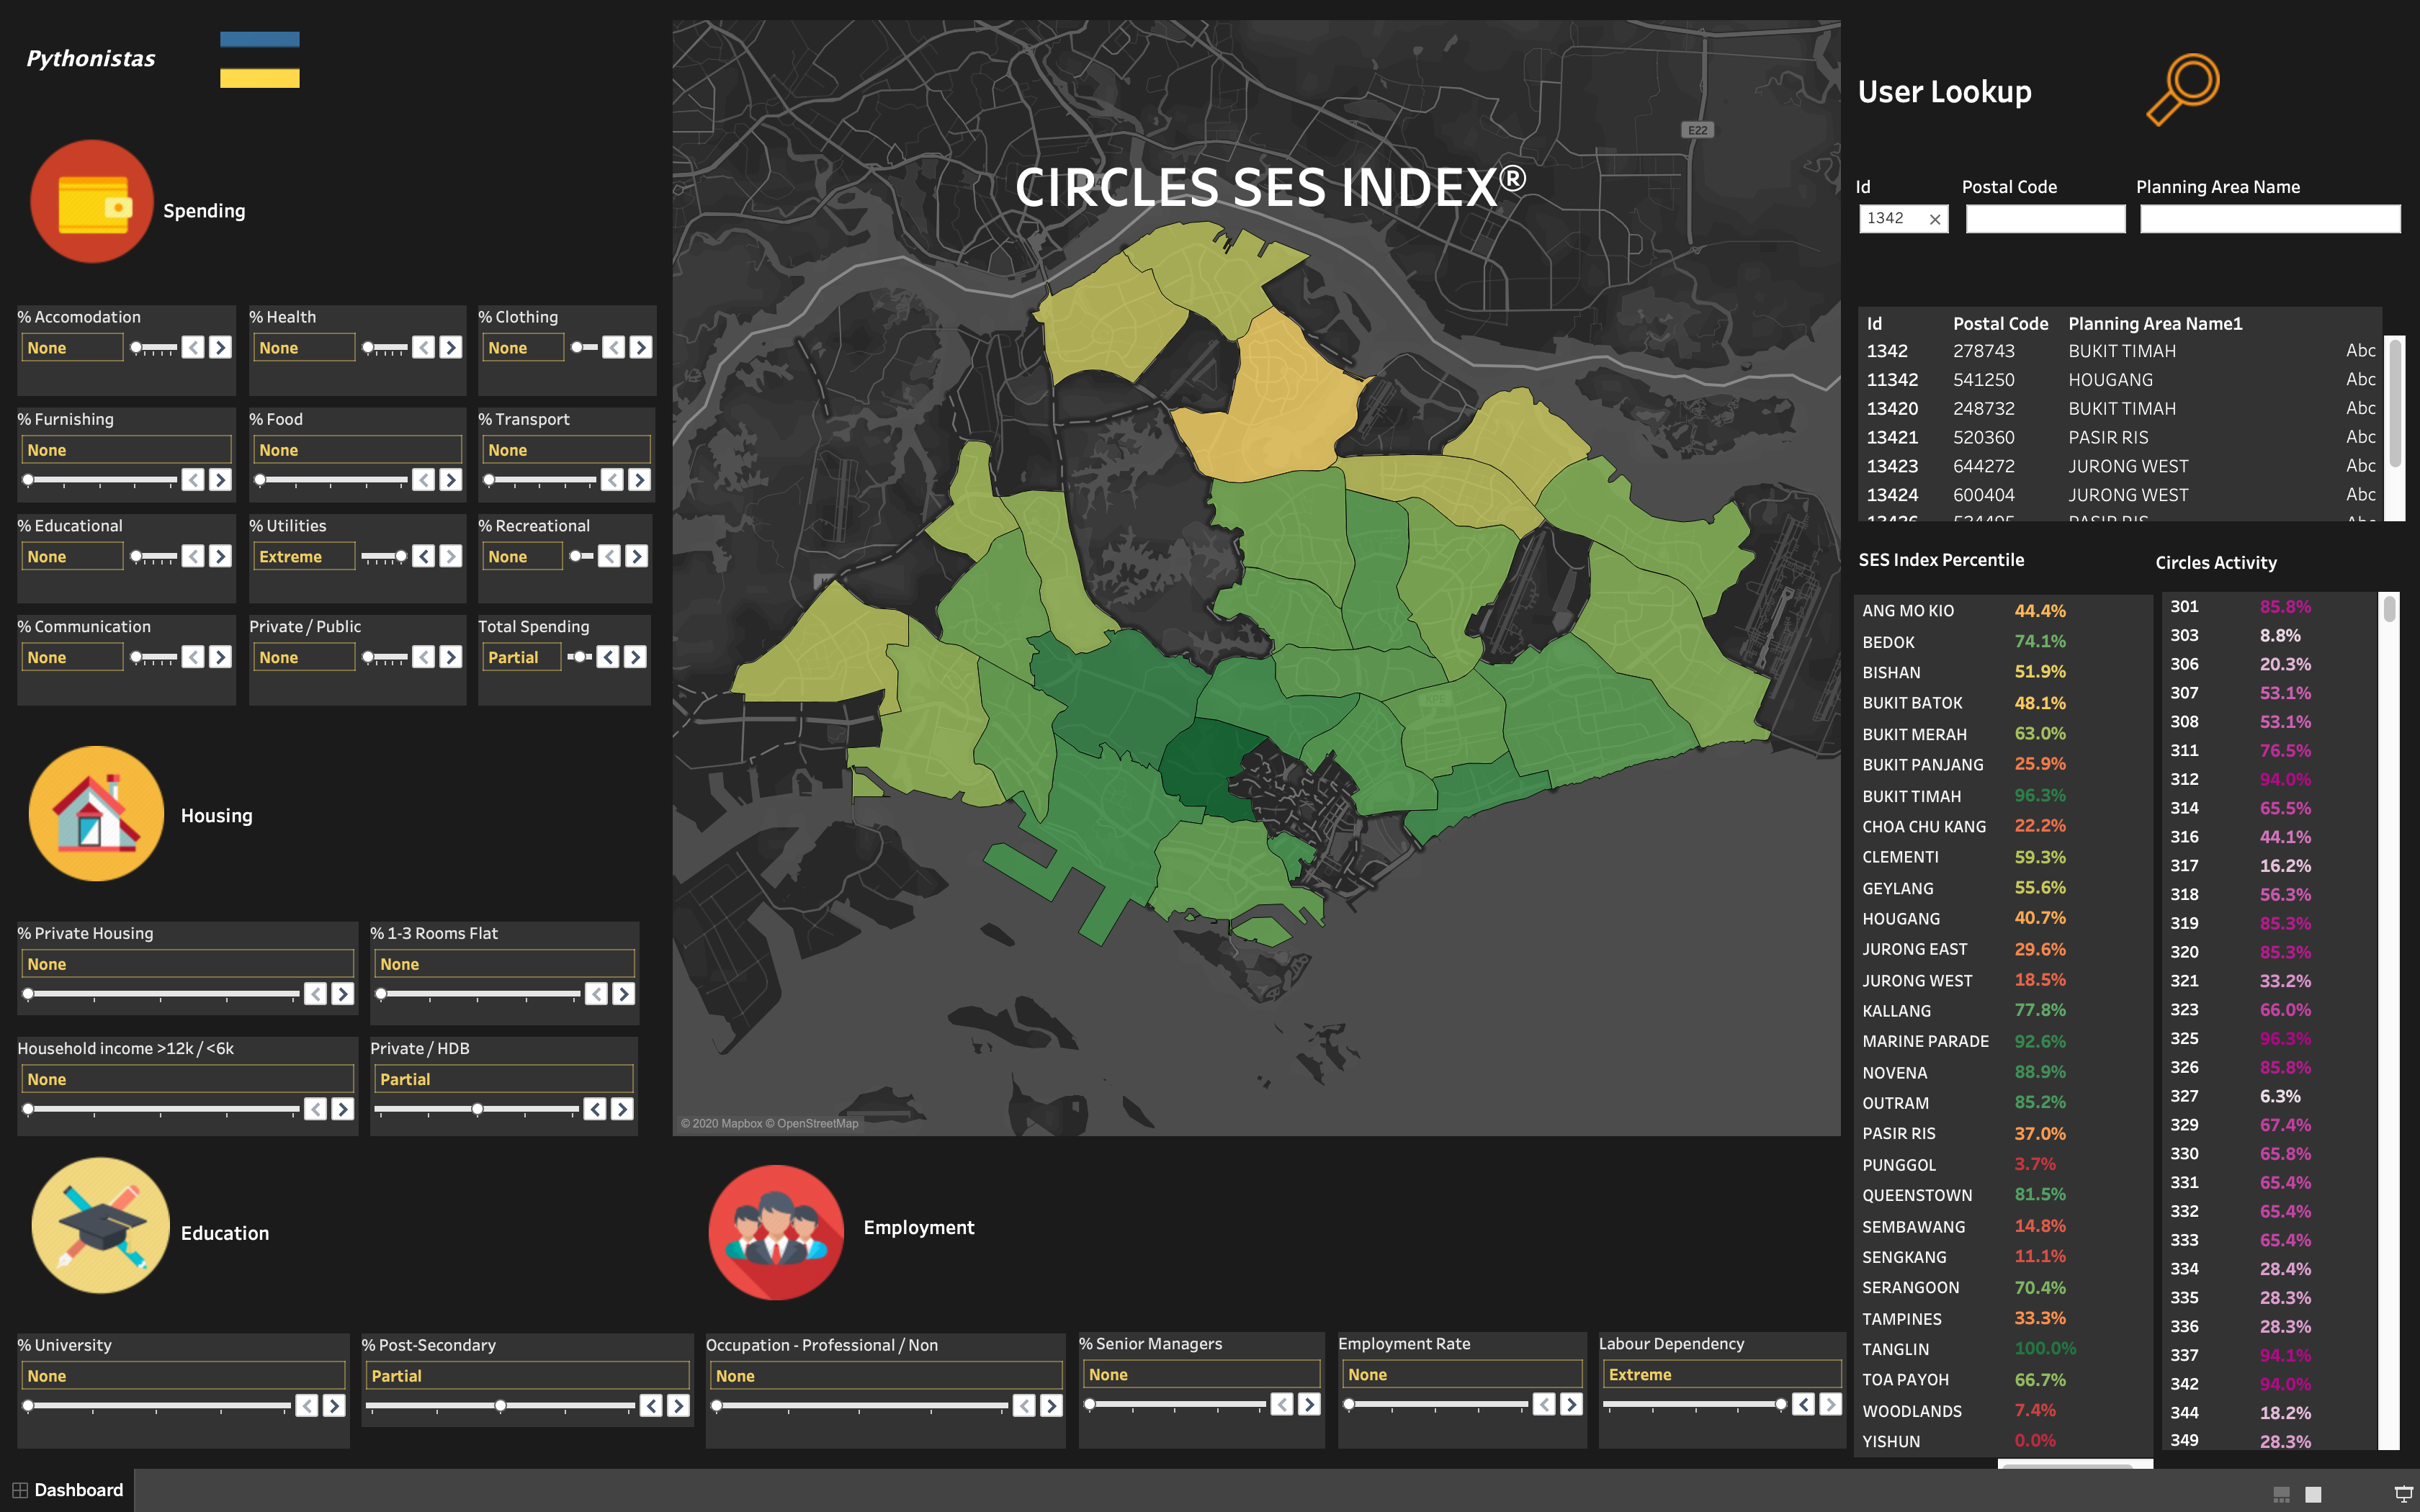

The page's visual inventory and layout, read from the dashboard file:
{"tool":"tableau","page":{"name":"Dashboard","canvas":[1000,1000],"units":"permille","ordinal":0},"visuals":[{"type":"blank","box":[5,9.8,284.5,106.3]},{"type":"worksheet","title":"Map sheet","mark":"Automatic","box":[275.6,9.8,487.5,767.7]},{"type":"text","box":[8.7,22,91.7,36.7]},{"type":"image","param":"Image/5848152fcef1014c0b5e4967.png","box":[91,22,33,37.9]},{"type":"image","param":"Image/125-1257972_black-magnifying-glass-circle.png","box":[887.2,26.9,30.6,70.9]},{"type":"text","box":[766.2,41.6,125.3,41.6]},{"type":"image","param":"Image/investment_money_green-512.png","box":[10.6,86.8,54.9,101.5]},{"type":"text","box":[333.5,86.8,383.4,77]},{"type":"text","box":[66.1,103.9,67.3,78.2]},{"type":"blank","box":[5,116.1,284.5,88]},{"type":"filter","title":"Lookup","param":"[federated.0tqirji0vqxrs519qtk8307uyh2g].[none:id:ok]","box":[766.8,118.6,40.5,75.8]},{"type":"filter","title":"Lookup","param":"[federated.0tqirji0vqxrs519qtk8307uyh2g].[none:postal_code:ok]","box":[810.5,118.6,69.8,75.8]},{"type":"filter","title":"Lookup","param":"[federated.0tqirji0vqxrs519qtk8307uyh2g].[none:planning_area_name:nk]","box":[882.8,118.6,111.6,79.5]},{"type":"parameter","param":"[Parameters].[Proportion of wavg monthly accomodation expenditure Parameter]","box":[5,204.1,95.5,69.7]},{"type":"parameter","param":"[Parameters].[Proportion of wavg monthly health expenditure Parameter]","box":[100.5,204.1,94.8,69.7]},{"type":"parameter","param":"[Parameters].[Proportion of wavg monthly clothing footwear expenditure Parameter","box":[195.1,204.2,78.5,69.7]},{"type":"worksheet","title":"Lookup","mark":"Automatic","rows":["id","postal_code","Planning Area Name"],"box":[768.1,209.2,226.2,146]},{"type":"parameter","param":"[Parameters].[Proportion of wavg monthly furnishing expenditure Parameter]","box":[5,273.8,95.5,72.2]},{"type":"parameter","param":"[Parameters].[Proportion of wavg monthly food expenditure Parameter]","box":[100.5,273.8,94.8,72.2]},{"type":"parameter","param":"[Parameters].[Proportion of wavg monthly transport expenditure Parameter]","box":[195.1,273.8,77.9,72.1]},{"type":"parameter","param":"[Parameters].[Proportion of wavg monthly educational expenditure Parameter]","box":[5,345.9,95.5,68.5]},{"type":"parameter","param":"[Parameters].[Proportion of wavg monthly housing utilities expenditure Parameter","box":[100.5,345.9,94.8,68.5]},{"type":"parameter","param":"[Parameters].[Proportion of wavg monthly recreation expenditure Parameter]","box":[195.1,346,76.7,68.5]},{"type":"text","box":[766.8,363.1,112.8,36.7]},{"type":"text","box":[889,364.3,114.1,36.7]},{"type":"worksheet","title":"Circles Activity","mark":"Automatic","rows":["id"],"box":[893.4,403.4,106.6,584.4]},{"type":"parameter","param":"[Parameters].[Proportion of wavg monthly communication expenditure Parameter]","box":[5,414.4,95.5,69.7]},{"type":"parameter","param":"[Parameters].[Parks to Population (copy)]","box":[100.5,414.4,94.8,69.7]},{"type":"parameter","param":"[Parameters].[Wavg Monthly Total Expenditure Parameter]","box":[195.1,414.4,76.1,69.7]},{"type":"blank","box":[5,484.1,261.2,139.4]},{"type":"image","param":"Image/icon-house.png","box":[11.8,502.4,56.1,103.9]},{"type":"text","box":[72.9,536.7,62.3,36.7]},{"type":"parameter","param":"[Parameters].[Gyms to Population Age > 15 (copy)]","box":[5,623.4,145.8,78.2]},{"type":"parameter","param":"[Parameters].[Elderly Services to Population > 60 (copy)]","box":[150.9,623.5,116,78.2]},{"type":"parameter","param":"[Parameters].[Community Centre to Population (copy)]","box":[5,701.6,145.8,75.8]},{"type":"parameter","param":"[Parameters].[No. of Wireless Hotspots (copy 2)]","box":[150.9,701.7,115.3,75.8]},{"type":"blank","box":[5,777.4,284.5,126.3]},{"type":"blank","box":[289.5,777.4,450.6,126.4]},{"type":"image","param":"Image/EDUCATION-512.png","box":[13.1,783.6,57.4,102.7]},{"type":"image","param":"Image/images.png","box":[293,789.7,56.1,99]},{"type":"text","box":[355.4,816.6,79.8,36.7]},{"type":"text","box":[72.9,820.3,64.2,36.7]},{"type":"parameter","param":"[Parameters].[No. of Wireless Hotspots (copy)]","box":[443.3,903.4,106.6,86.8]},{"type":"parameter","param":"[Parameters].[Hospitals to Population (copy)]","box":[550.5,903.4,107.9,86.8]},{"type":"parameter","param":"[Parameters].[Primary Schools to Population with Primary Education (copy)]","box":[658.4,903.4,107.2,86.8]},{"type":"parameter","param":"[Parameters].[Community Centres to Population (copy)]","box":[5,903.8,142.1,86.5]},{"type":"parameter","param":"[Parameters].[Average Time To Work (copy)]","box":[147.1,903.8,142.1,86.5]},{"type":"parameter","param":"[Parameters].[4Elderly Services:Population>60 Parameter]","box":[289.2,903.8,154,86.5]}]}

Visuals, with their boxes on the dashboard's canvas, which has no fixed pixel size, in thousandths of its width and height (x1, y1, x2, y2). These are canvas units, not pixel positions in the 2420x1512 screenshot, which may show the page scaled, cropped or inside an application window:
blank: [5,10,290,116]
"Map sheet" worksheet: [276,10,763,778]
text: [9,22,100,59]
image: [91,22,124,60]
image: [887,27,918,98]
text: [766,42,892,83]
image: [11,87,66,188]
text: [334,87,717,164]
text: [66,104,133,182]
blank: [5,116,290,204]
"Lookup" filter: [767,119,807,194]
"Lookup" filter: [810,119,880,194]
"Lookup" filter: [883,119,994,198]
parameter: [5,204,100,274]
parameter: [100,204,195,274]
parameter: [195,204,274,274]
"Lookup" worksheet: [768,209,994,355]
parameter: [5,274,100,346]
parameter: [100,274,195,346]
parameter: [195,274,273,346]
parameter: [5,346,100,414]
parameter: [100,346,195,414]
parameter: [195,346,272,414]
text: [767,363,880,400]
text: [889,364,1003,401]
"Circles Activity" worksheet: [893,403,1000,988]
parameter: [5,414,100,484]
parameter: [100,414,195,484]
parameter: [195,414,271,484]
blank: [5,484,266,624]
image: [12,502,68,606]
text: [73,537,135,573]
parameter: [5,623,151,702]
parameter: [151,624,267,702]
parameter: [5,702,151,777]
parameter: [151,702,266,778]
blank: [5,777,290,904]
blank: [290,777,740,904]
image: [13,784,70,886]
image: [293,790,349,889]
text: [355,817,435,853]
text: [73,820,137,857]
parameter: [443,903,550,990]
parameter: [550,903,658,990]
parameter: [658,903,766,990]
parameter: [5,904,147,990]
parameter: [147,904,289,990]
parameter: [289,904,443,990]
